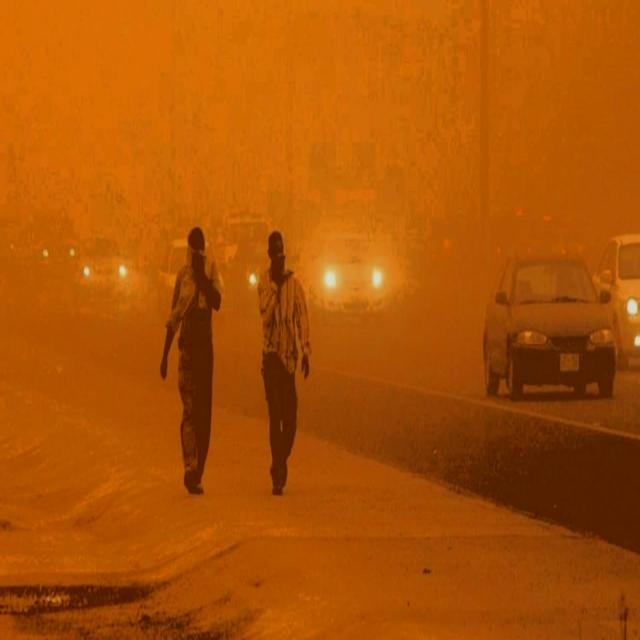Car: (477, 244, 621, 403), (296, 202, 404, 348), (152, 218, 216, 342), (594, 219, 640, 374), (78, 216, 128, 312), (24, 205, 76, 294)
Cycle: (233, 222, 262, 312)
